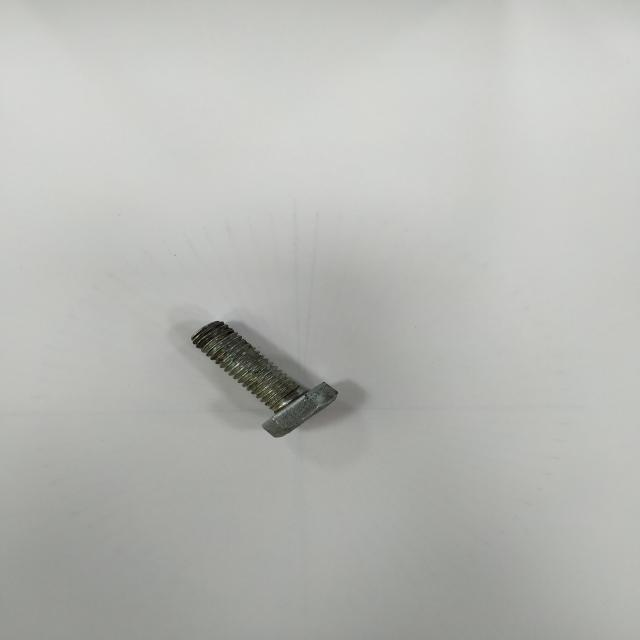Bolt: (191, 322, 339, 437)
